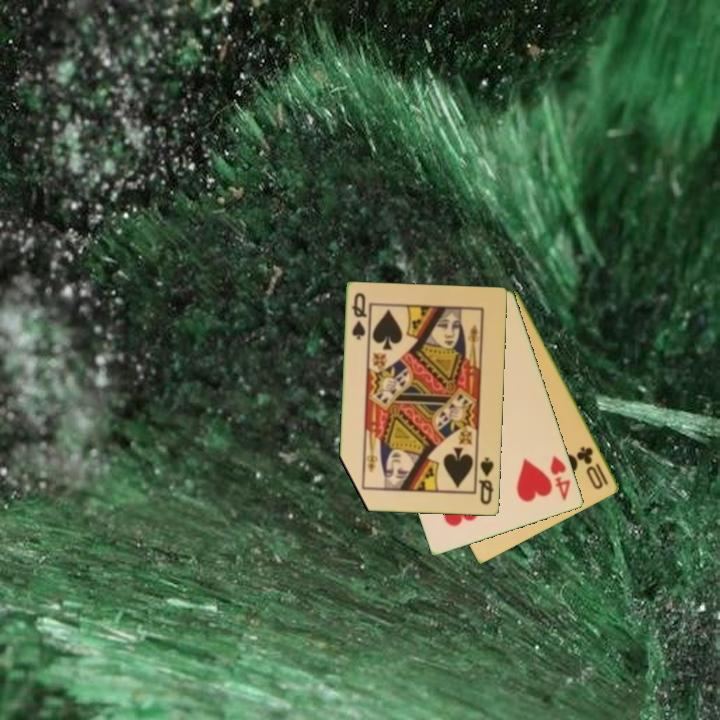10c: (574, 443, 612, 492)
4h: (547, 452, 574, 503)
Qs: (476, 454, 497, 508), (349, 289, 370, 343)
